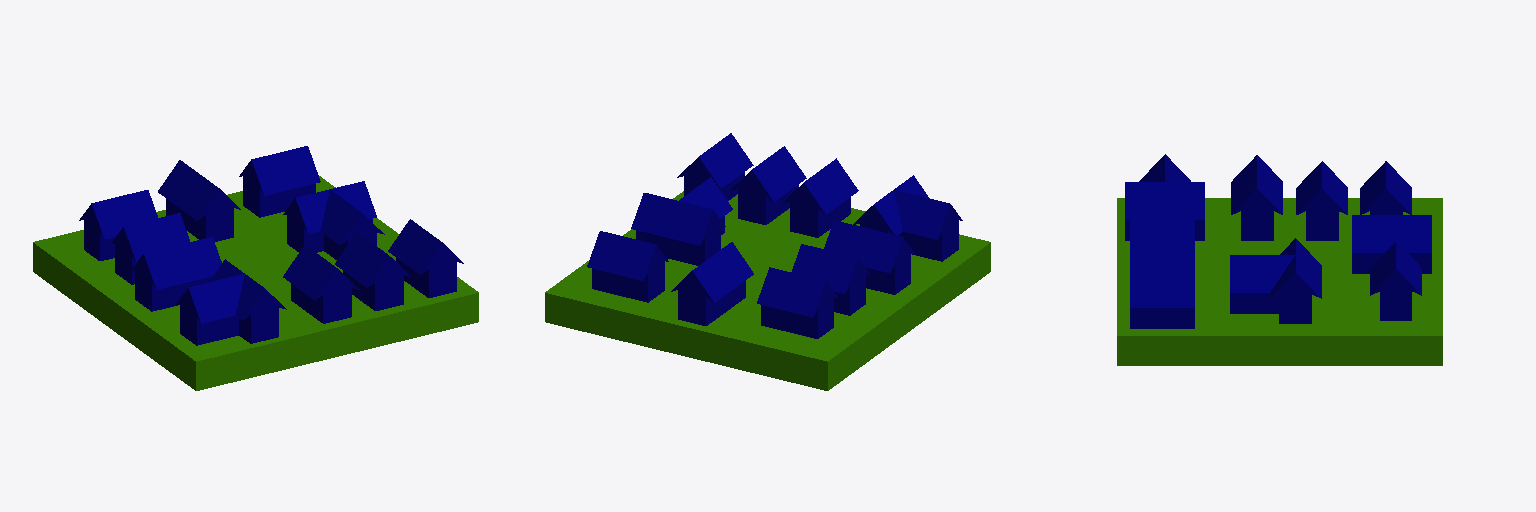
Rendered from House1.obj.
3 renders of one model, left to right at view 1: azimuth 30°, elevation 25°; view 2: azimuth 150°, elevation 25°; view 3: azimuth 270°, elevation 25°, orthographic.
Parts seen in each view (by area): view 1: Tilebase103, Box659, Box651, Box654, Box649, Box657, Box655, Box650, Box660, Box652, Box658, Box656 (+1 smaller); view 2: Tilebase103, Box652, Box651, Box660, Box654, Box659, Box649, Box650, Box657, Box658, Box655, Box656 (+1 smaller); view 3: Tilebase103, Box655, Box654, Box659, Box656, Box653, Box658, Box651, Box652, Box660, Box649, Box650 (+1 smaller).
Boxes of the visible parts, x1,y1,x2,y2 form: Tilebase103: [33, 176, 478, 390]; Box659: [131, 237, 221, 311]; Box651: [239, 146, 320, 217]; Box654: [158, 160, 240, 241]; Box649: [283, 245, 359, 323]; Box657: [176, 274, 244, 345]; Box655: [388, 219, 463, 297]; Box650: [335, 232, 410, 310]; Box660: [79, 190, 157, 260]; Box652: [283, 181, 376, 252]; Box658: [111, 213, 189, 284]; Box656: [210, 259, 286, 343]; Tilebase103: [545, 191, 990, 390]; Box652: [631, 193, 725, 265]; Box651: [587, 231, 668, 302]; Box660: [757, 267, 838, 338]; Box654: [671, 242, 753, 325]; Box659: [824, 220, 914, 294]; Box649: [782, 158, 858, 237]; Box650: [730, 146, 806, 224]; Box657: [894, 190, 962, 261]; Box658: [791, 244, 869, 315]; Box655: [677, 133, 753, 200]; Box656: [853, 175, 928, 235]; Tilebase103: [1117, 198, 1442, 365]; Box655: [1130, 270, 1194, 328]; Box654: [1352, 215, 1431, 273]; Box659: [1231, 155, 1282, 240]; Box656: [1125, 182, 1204, 240]; Box653: [1230, 255, 1294, 313]; Box658: [1296, 161, 1347, 240]; Box651: [1370, 241, 1421, 320]; Box652: [1270, 238, 1321, 323]; Box660: [1360, 161, 1411, 214]; Box649: [1130, 218, 1194, 243]; Box650: [1130, 244, 1194, 269].
Size of the model in its own units: 10 by 2.77 by 10.